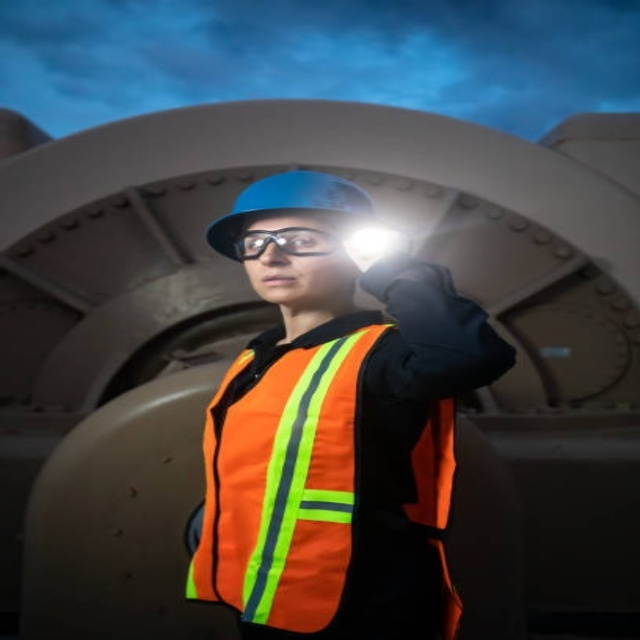Gafas: (231, 229, 340, 262)
Sin_mascara: (253, 266, 312, 298)
